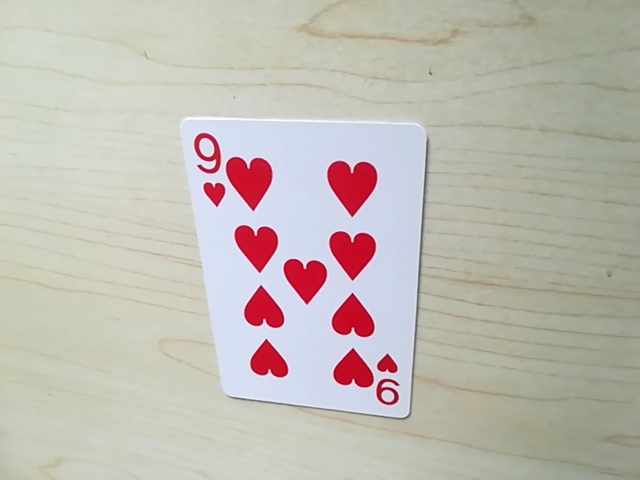hx 9: (189, 126, 228, 190), (364, 357, 406, 413)
